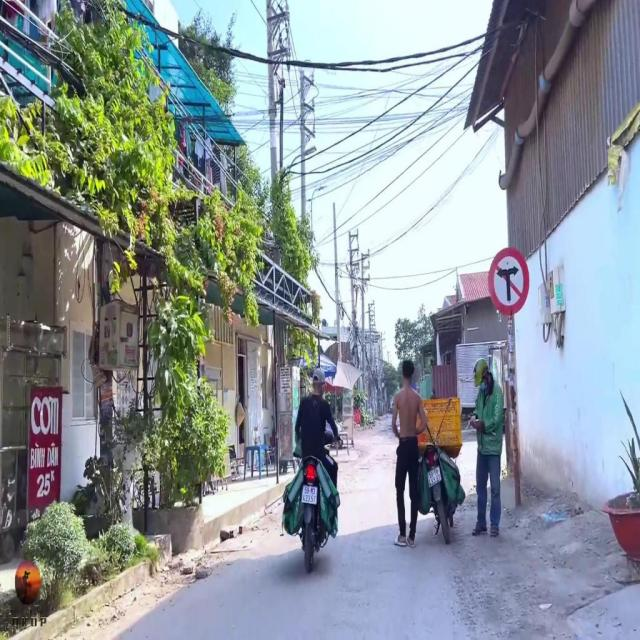cam_re_trai_va_phai: (488, 247, 530, 317)
